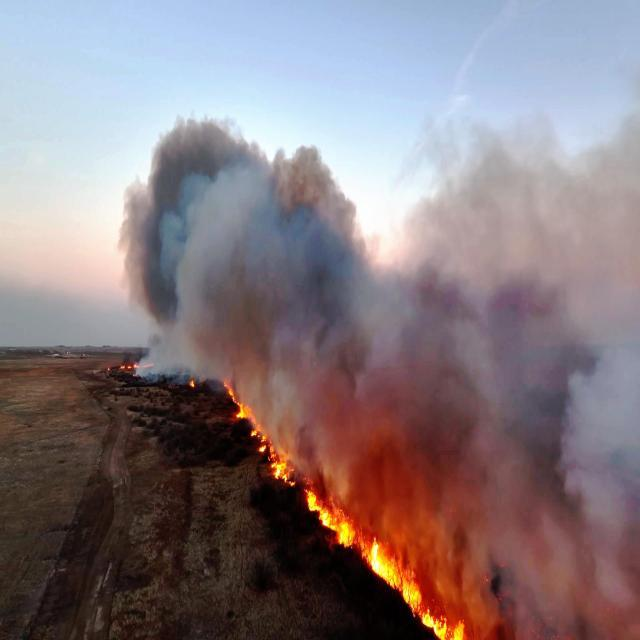Fire: (223, 370, 296, 486), (362, 541, 422, 603), (306, 488, 347, 545), (415, 600, 469, 640)
Smoke: (118, 105, 640, 362), (419, 162, 640, 502), (424, 506, 640, 615), (297, 366, 419, 484), (351, 489, 418, 544)
